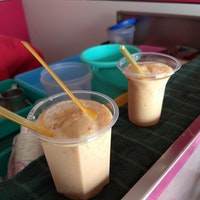jigirthanda: (39, 103, 107, 191), (120, 55, 173, 125)
